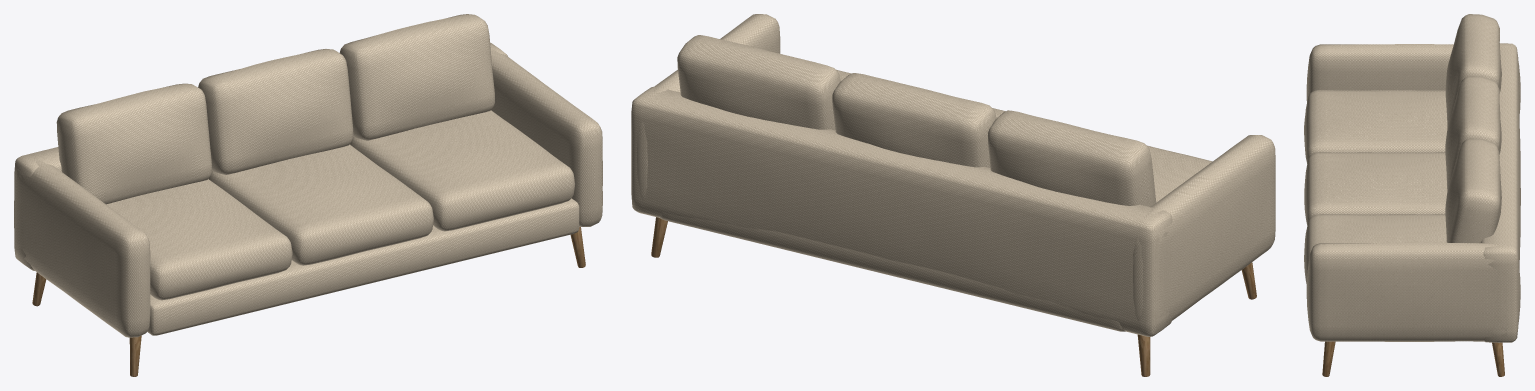
File: sofa_nordico_3p.glb
3 renders of one model, left to right at view 1: azimuth 30°, elevation 25°; view 2: azimuth 150°, elevation 25°; view 3: azimuth 270°, elevation 25°, orthographic. The views are drawn at different scales.
Visible parts, largest first — view 1: sofa_nordico_3p; view 2: sofa_nordico_3p; view 3: sofa_nordico_3p.
Part boxes in pixels (<box>): sofa_nordico_3p: <box>14,14,602,376</box>; sofa_nordico_3p: <box>631,14,1275,376</box>; sofa_nordico_3p: <box>1304,14,1520,376</box>.
Bounding box in the file's own units: 2.06 × 0.806 × 0.8909.
2 materials, 2 textured.
